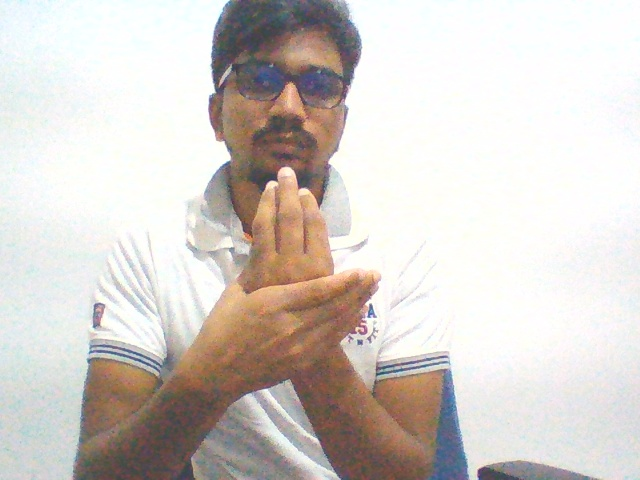tree: (164, 161, 385, 421)
